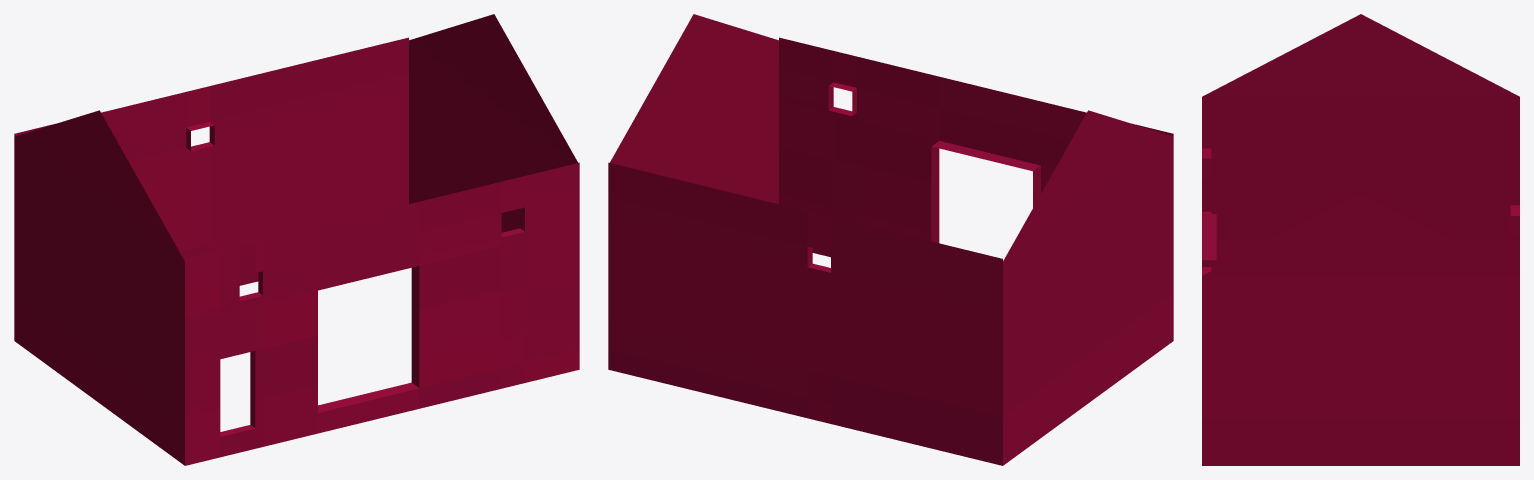
Rendered from SM_Bld_072_Masonry.glb.
The picture shows the model from 3 angles, left to right: view 1: azimuth 30°, elevation 25°; view 2: azimuth 150°, elevation 25°; view 3: azimuth 270°, elevation 25°; orthographic projection. The views are drawn at different scales.
Visible parts, largest first — view 1: SM_Bld_072_Masonry; view 2: SM_Bld_072_Masonry; view 3: SM_Bld_072_Masonry.
Boxes of the visible parts, x1,y1,x2,y2 form: SM_Bld_072_Masonry: (14,14,579,465); SM_Bld_072_Masonry: (608,14,1173,465); SM_Bld_072_Masonry: (1202,14,1519,465).
Size of the model in its own units: 10.11 by 7.18 by 7.58.
